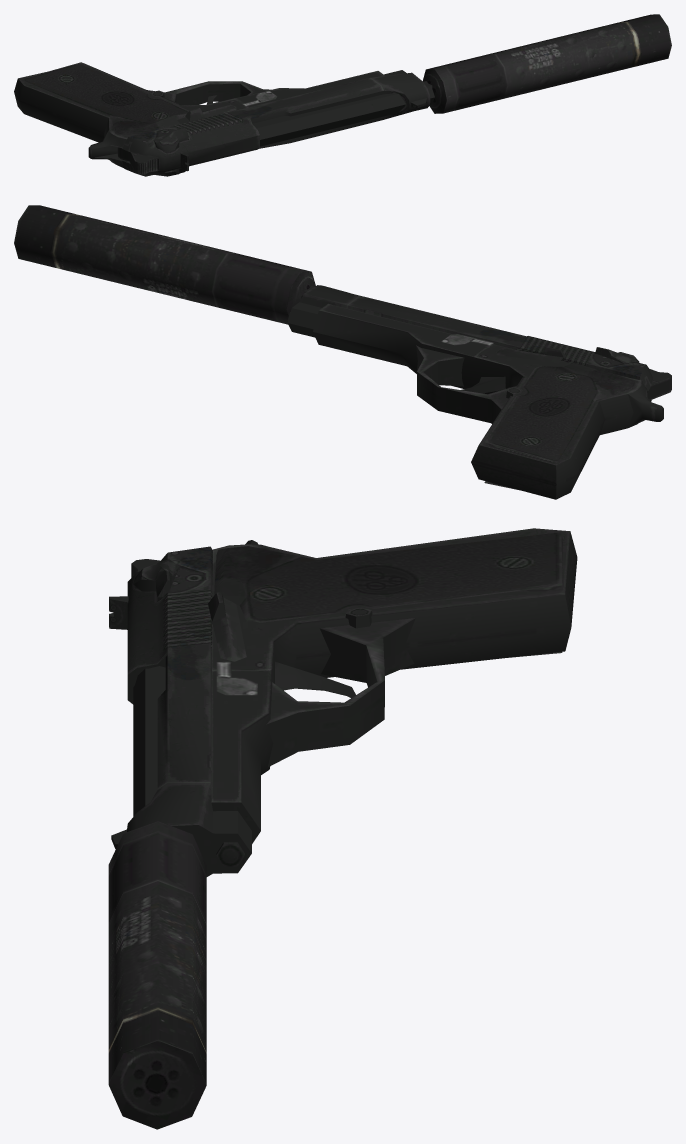
Rendered from weapon_beretta_LOD0.obj.
3 renders of one model, top to bottom at view 1: azimuth 30°, elevation 25°; view 2: azimuth 150°, elevation 25°; view 3: azimuth 270°, elevation 25°, orthographic. The views are drawn at different scales.
Visible parts, largest first — view 1: mtl_weapon_beretta, mtl_weapon_suppressor_b; view 2: mtl_weapon_beretta, mtl_weapon_suppressor_b; view 3: mtl_weapon_beretta, mtl_weapon_suppressor_b.
Part boxes in pixels (x1,y1,x2,y2): mtl_weapon_beretta: (14,62,434,176); mtl_weapon_suppressor_b: (423,14,671,113); mtl_weapon_beretta: (287,285,671,499); mtl_weapon_suppressor_b: (14,205,315,324); mtl_weapon_beretta: (109,528,577,876); mtl_weapon_suppressor_b: (108,821,206,1129).
Bounding box in the file's own units: 37.01 × 3.05 × 13.73.
